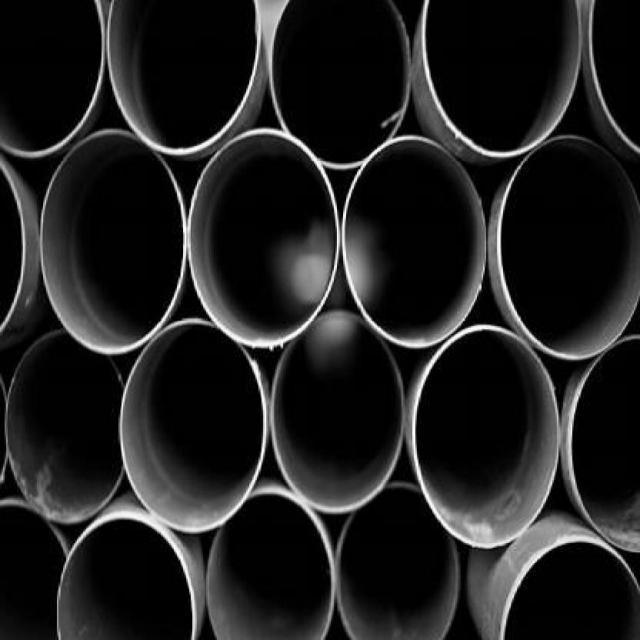pipe: (187, 128, 341, 349), (40, 129, 187, 352), (412, 328, 560, 549), (497, 133, 640, 361), (341, 134, 488, 348), (119, 318, 266, 532), (270, 313, 404, 513), (422, 0, 582, 157), (106, 0, 262, 157), (269, 0, 412, 169), (4, 331, 124, 522), (206, 486, 337, 639), (336, 483, 461, 639), (55, 514, 197, 639), (565, 332, 639, 554), (0, 0, 104, 156), (498, 531, 640, 639), (0, 496, 72, 640), (0, 150, 32, 330)
